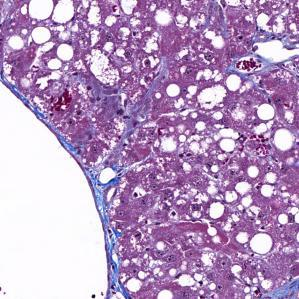fibrosis: (88, 157, 130, 250)
